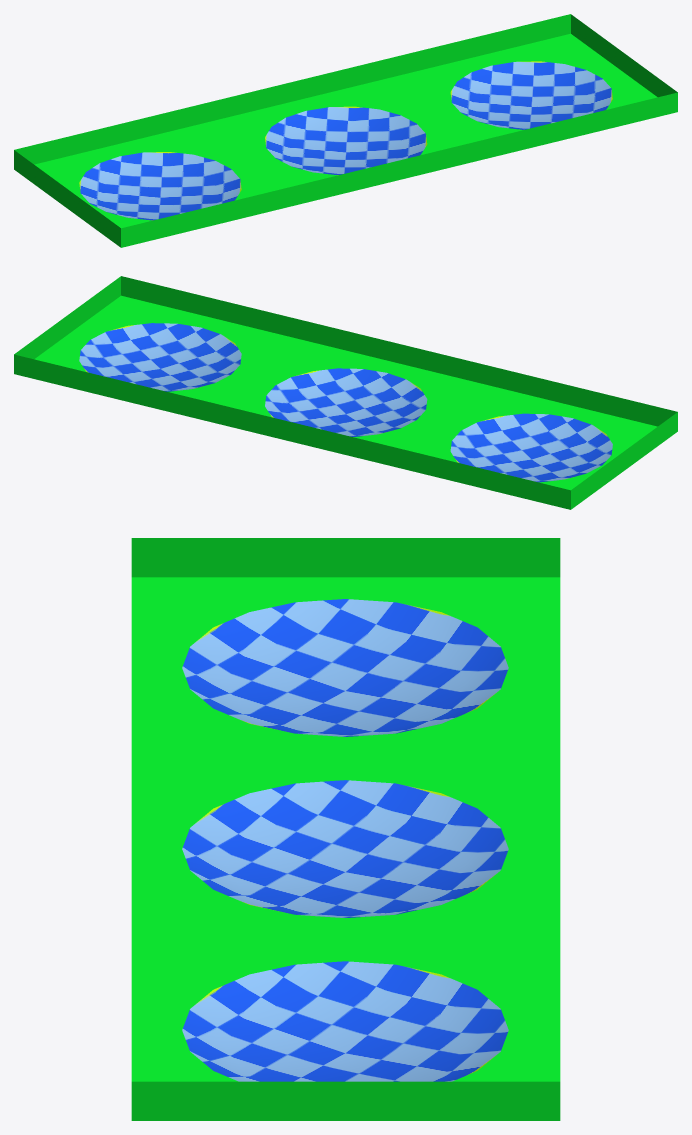
Rendered from LightCeiling01_13.FBX.
3 views of the same model, one above another, from view 1: azimuth 30°, elevation 25°; view 2: azimuth 150°, elevation 25°; view 3: azimuth 270°, elevation 25° (orthographic). The views are drawn at different scales.
Visible parts, largest first — view 1: LightCeiling01_13; view 2: LightCeiling01_13; view 3: LightCeiling01_13.
Part boxes in pixels (box(x1,y1,x2,y2)): LightCeiling01_13: box(14, 14, 677, 247); LightCeiling01_13: box(14, 276, 677, 509); LightCeiling01_13: box(131, 538, 560, 1120).
Size of the model in its own units: 45 by 2.41 by 15.
